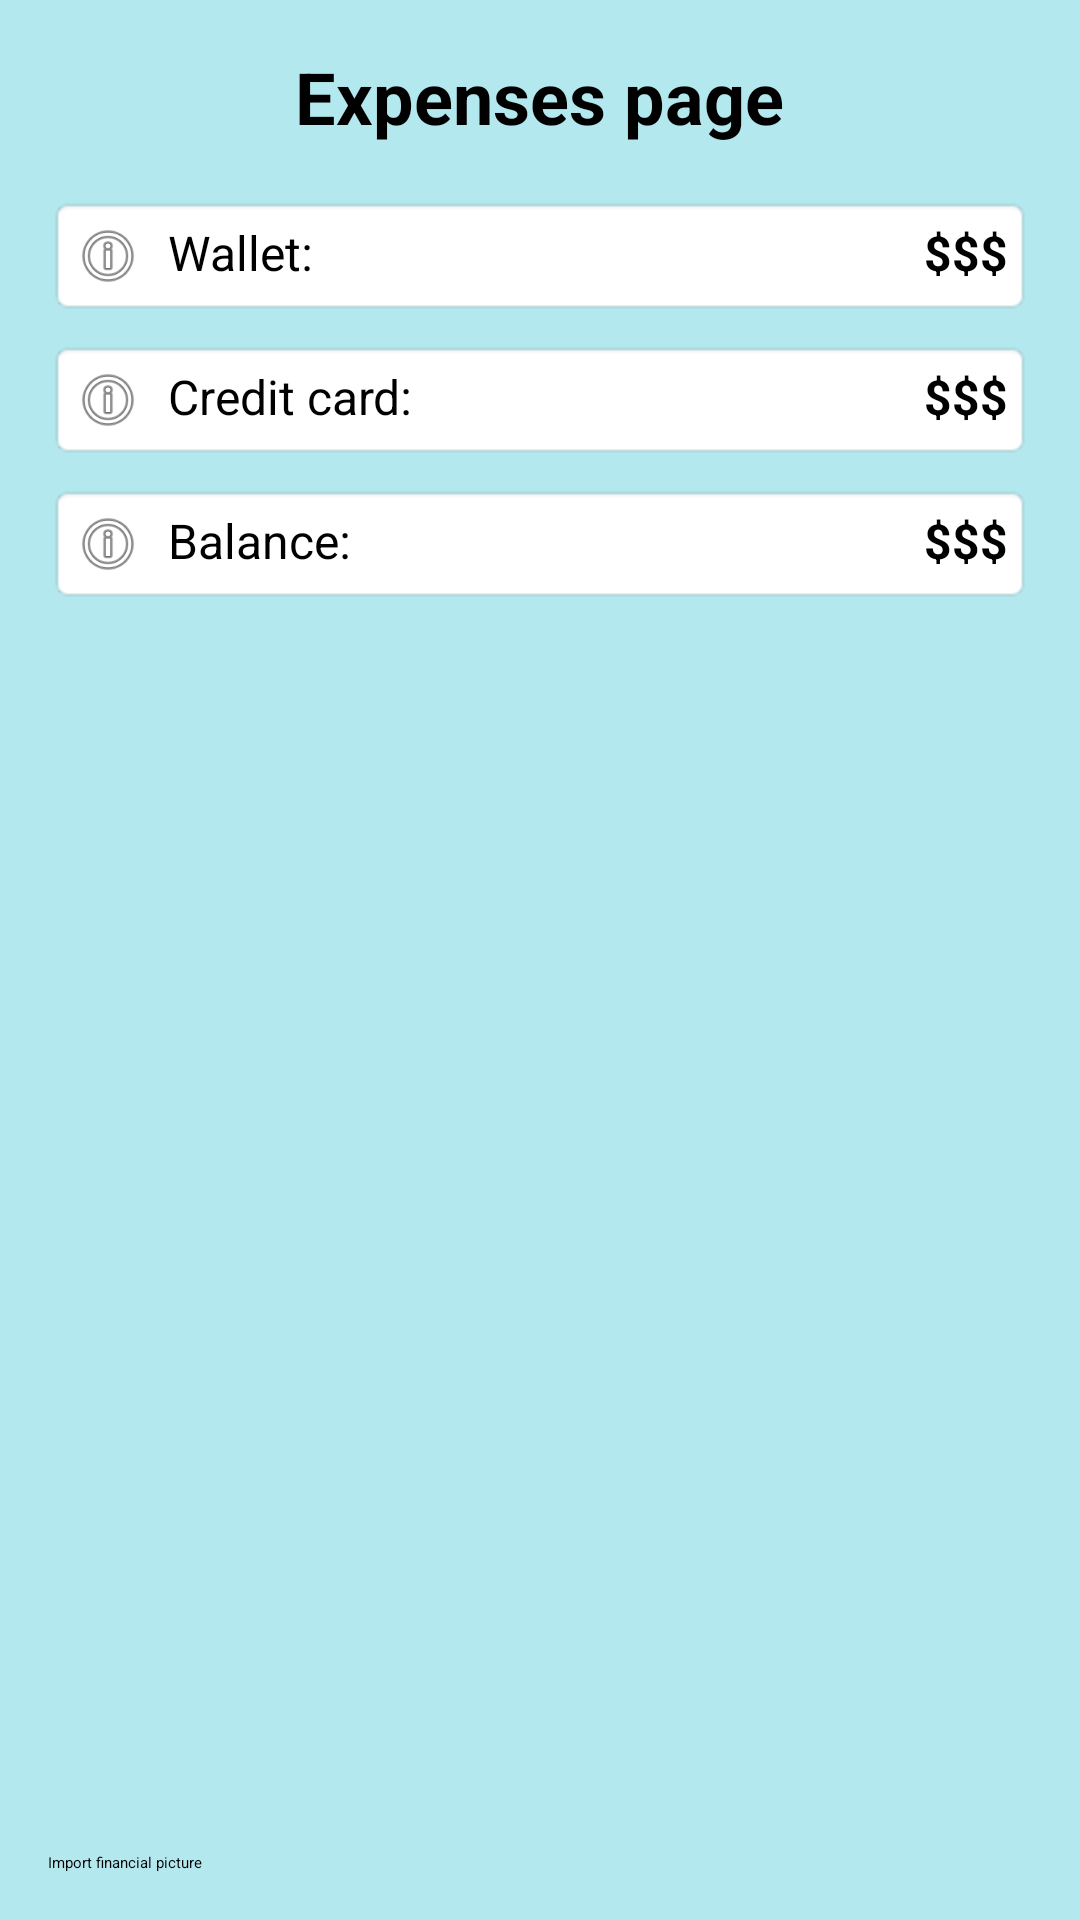

Named icons in this screenshot (1080*1920) and their bounding boxes, (x1, y1, x2, y2):
info details: (82, 230, 134, 282), (82, 374, 134, 426), (82, 518, 134, 570)
